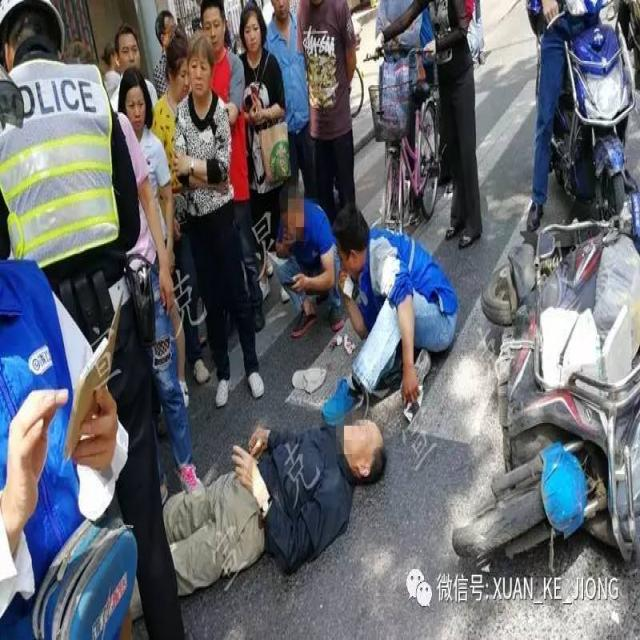10-: (2, 0, 580, 630)
down: (120, 407, 386, 592)
